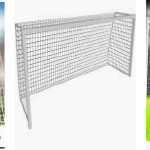goals: (13, 11, 137, 129)
